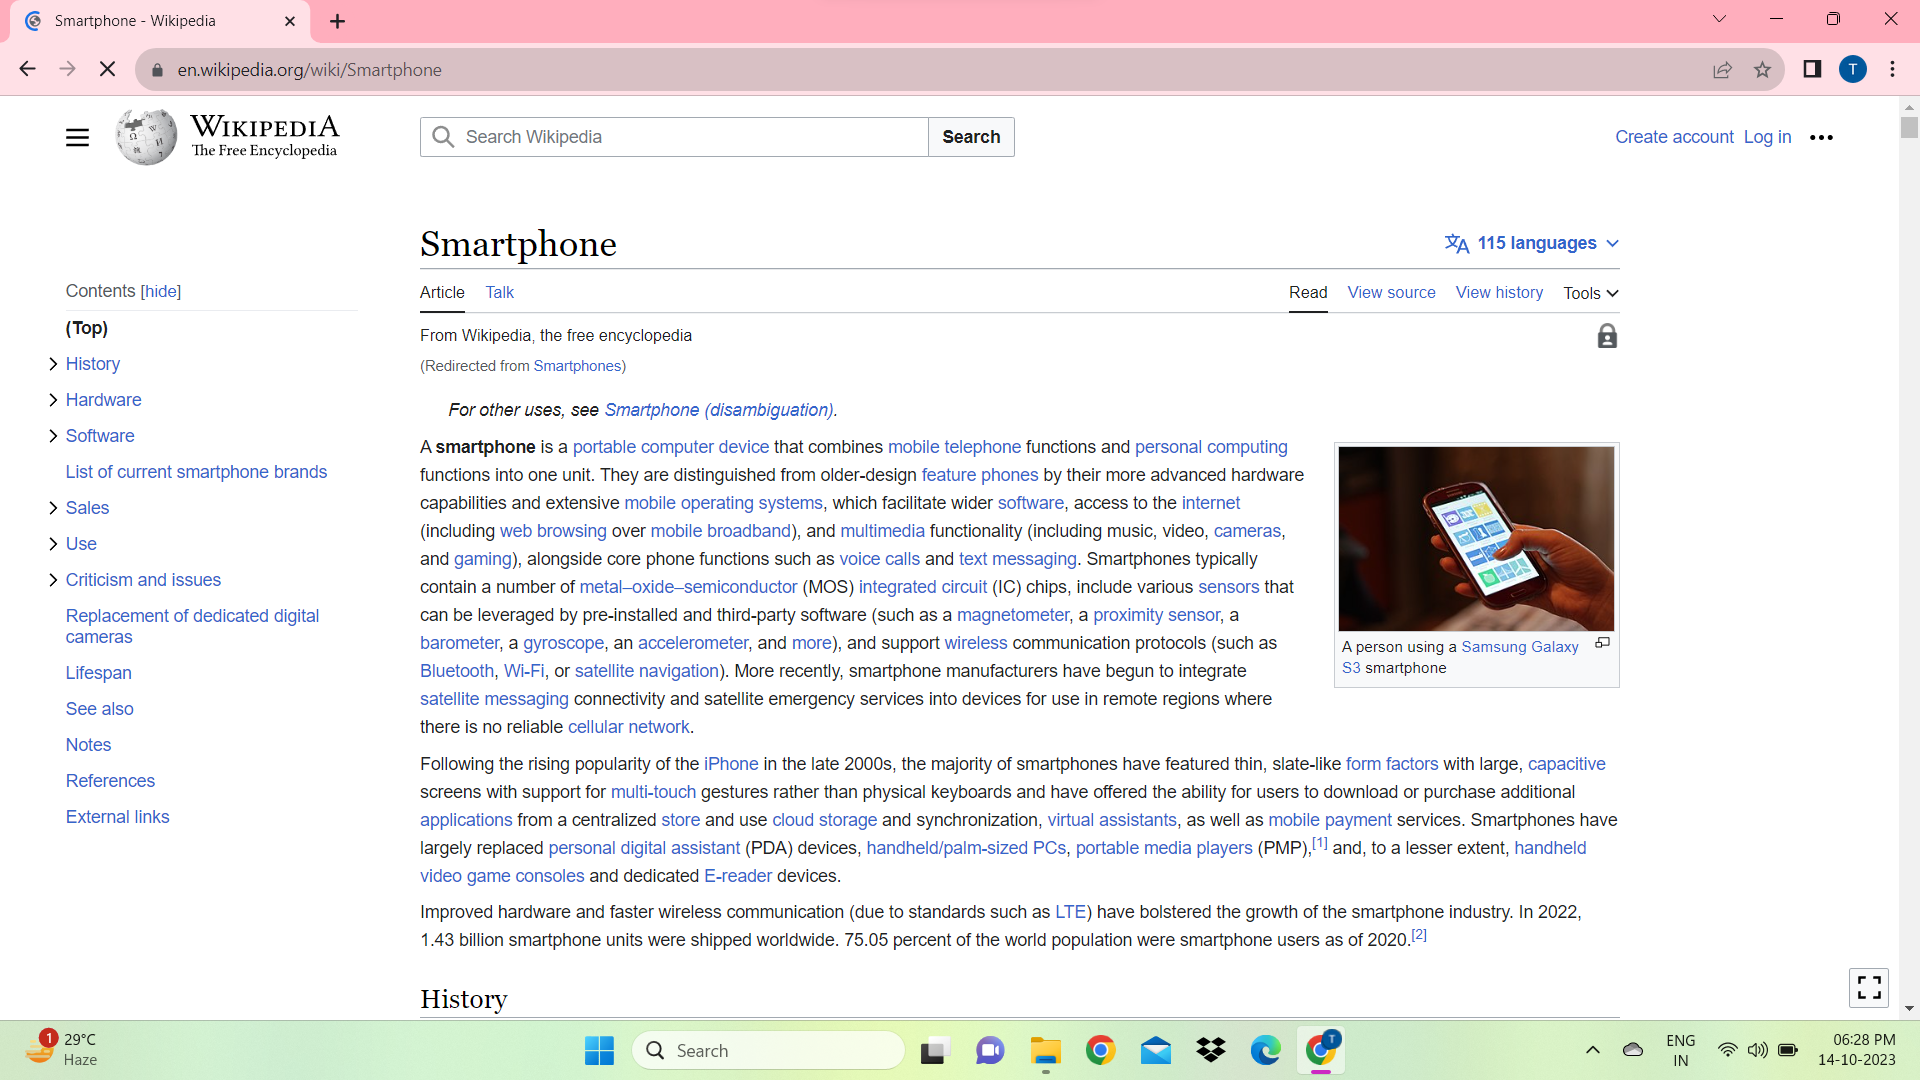Image: (1329, 442, 1618, 632)
Paragraph: (414, 438, 1319, 737), (414, 753, 1644, 969), (58, 604, 326, 645), (1336, 638, 1588, 679), (442, 400, 841, 423), (414, 228, 621, 268), (51, 272, 204, 313), (62, 459, 339, 481), (417, 326, 703, 347), (62, 560, 233, 593), (411, 984, 533, 1022), (58, 757, 169, 796), (417, 356, 637, 376), (1605, 121, 1737, 152), (1480, 228, 1597, 258), (65, 803, 170, 832), (58, 661, 145, 691), (65, 390, 162, 417), (1456, 281, 1547, 306), (58, 696, 149, 720), (1346, 281, 1443, 302), (67, 352, 132, 377), (62, 495, 125, 520), (1276, 281, 1337, 306), (65, 425, 138, 444), (418, 281, 472, 305), (61, 319, 121, 340), (61, 732, 121, 753), (1745, 125, 1791, 152), (483, 285, 530, 305), (1560, 285, 1604, 305), (67, 530, 105, 553)
